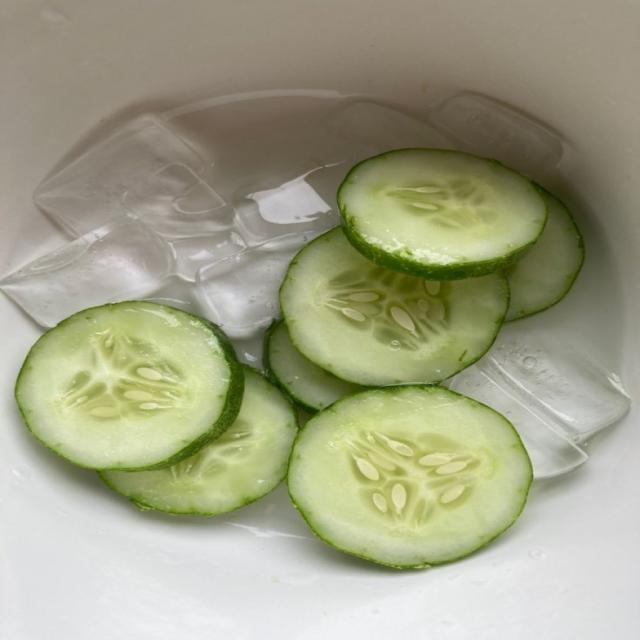cucumber sliced: (288, 385, 532, 567), (16, 302, 243, 469), (280, 228, 508, 386), (100, 366, 297, 515), (338, 149, 546, 279), (505, 188, 584, 321), (266, 321, 362, 412)
